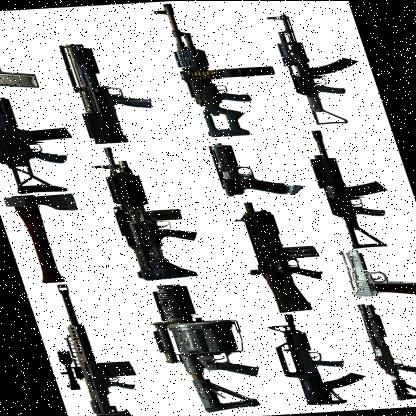rifle: (149, 0, 285, 138), (25, 282, 160, 416), (86, 142, 214, 283), (209, 197, 346, 315), (258, 2, 382, 129), (300, 126, 410, 260), (52, 37, 170, 147), (258, 310, 376, 408), (347, 299, 416, 401)
